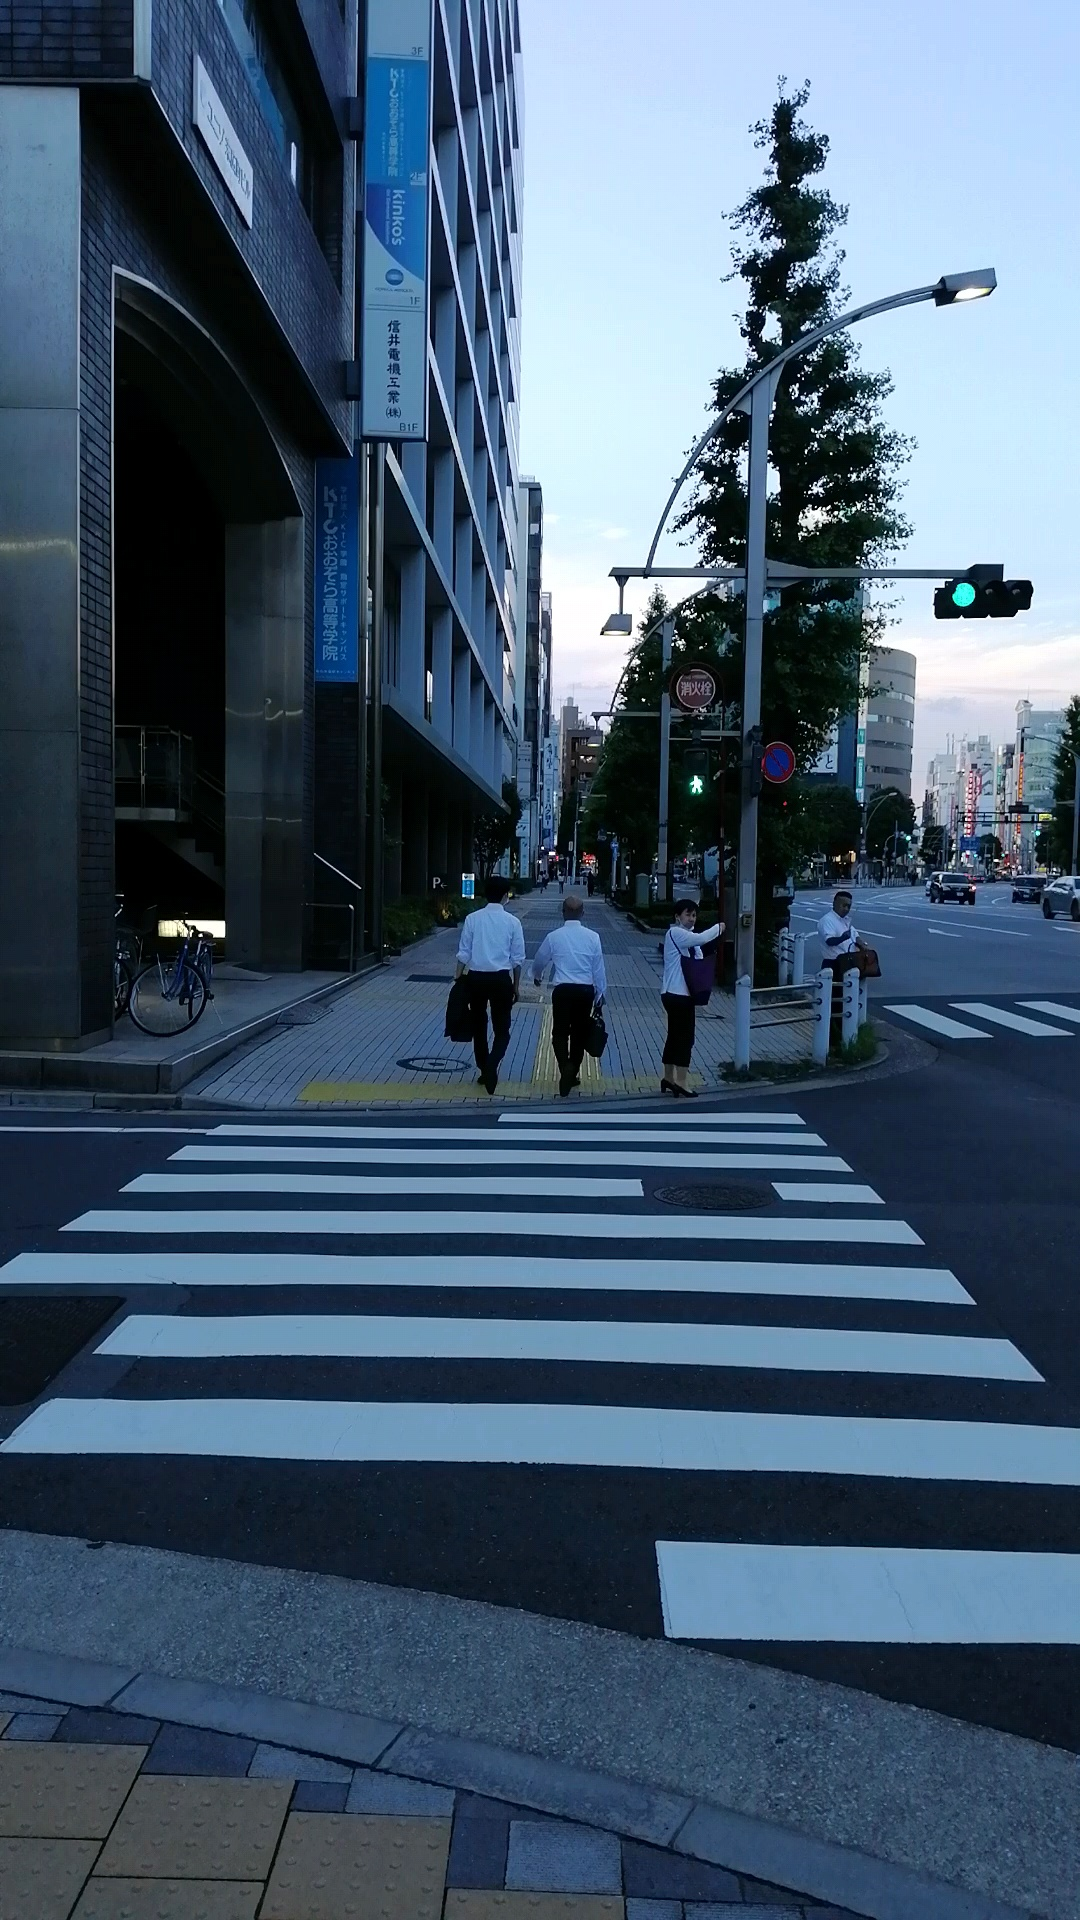green: (678, 742, 712, 803)
